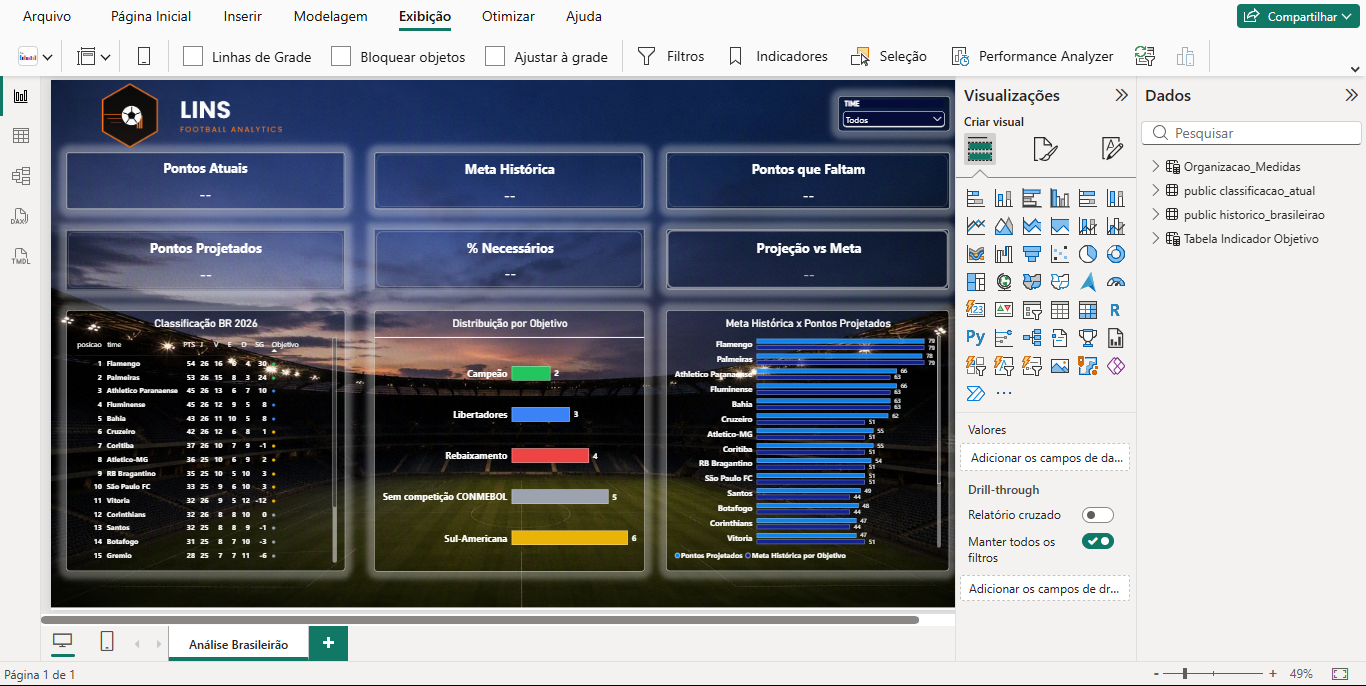

Layout of this report page (visuals, bound fields, positions):
{"tool":"powerbi","page":{"name":"Análise Brasileirão","canvas":[1920,1080],"ordinal":0},"visuals":[{"type":"image","box":[1883.2,1058.2,36.8,22.1],"z":0},{"type":"slicer","fields":{"Values":["public classificacao_atual.time"]},"box":[1606.5,32.6,229,72.5],"z":1000},{"type":"cardVisual","fields":{"Data":["Organizacao_Medidas.Pontos Atuais"]},"box":[30.4,147.8,569.6,117.4],"z":2000},{"type":"cardVisual","fields":{"Data":["Organizacao_Medidas.Meta Histórica por Objetivo"]},"box":[658.7,147.8,552.2,117.4],"z":3000},{"type":"cardVisual","fields":{"Data":["Organizacao_Medidas.Pontos para Meta Histórica"]},"box":[1254.3,147.8,580.4,117.4],"z":4000},{"type":"cardVisual","fields":{"Data":["Organizacao_Medidas.Pontos Projetados"]},"box":[30.4,306.5,569.6,123.9],"z":5000},{"type":"cardVisual","fields":{"Data":["Organizacao_Medidas.% Pontos Restantes para Meta"]},"box":[658.7,304.3,552.2,123.9],"z":6000},{"type":"cardVisual","fields":{"Data":["Organizacao_Medidas.Diferença Projeção vs Meta"]},"box":[1254.3,304.3,578.3,123.9],"z":7000},{"type":"clusteredBarChart","title":"Meta Histórica x Pontos Projetados","fields":{"Category":["public classificacao_atual.time"],"Y":["Organizacao_Medidas.Pontos Projetados","Organizacao_Medidas.Meta Histórica por Objetivo"]},"box":[1254.3,469.6,578.3,532.6],"z":8000},{"type":"tableEx","title":"Classificação BR 2026","fields":{"Values":["public classificacao_atual.posicao","public classificacao_atual.time","public classificacao_atual.pontos","public classificacao_atual.jogos","public classificacao_atual.vitorias","public classificacao_atual.empates","public classificacao_atual.derrotas","Organizacao_Medidas.Saldo de Gols","Organizacao_Medidas.Indicador Objetivo"]},"box":[30.4,469.6,569.6,532.6],"z":9000},{"type":"clusteredBarChart","title":"Distribuição por Objetivo","fields":{"Category":["Tabela Indicador Objetivo.Objetivo"],"Y":["Tabela Indicador Objetivo.Qtd Times Indicador"]},"box":[658.8,468.7,553,533.5],"z":10000},{"type":"image","box":[77.8,0,503.3,144.7],"z":11000}]}

Visuals, with their boxes on the page's 1920x1080 design canvas (x1, y1, x2, y2). These are canvas units, not pixel positions in the 1366x686 screenshot, which may show the page scaled, cropped or inside an application window:
image: bbox(1883, 1058, 1920, 1080)
slicer - public classificacao_atual.time: bbox(1606, 33, 1836, 105)
cardVisual - Organizacao_Medidas.Pontos Atuais: bbox(30, 148, 600, 265)
cardVisual - Organizacao_Medidas.Meta Histórica por Objetivo: bbox(659, 148, 1211, 265)
cardVisual - Organizacao_Medidas.Pontos para Meta Histórica: bbox(1254, 148, 1835, 265)
cardVisual - Organizacao_Medidas.Pontos Projetados: bbox(30, 306, 600, 430)
cardVisual - Organizacao_Medidas.% Pontos Restantes para Meta: bbox(659, 304, 1211, 428)
cardVisual - Organizacao_Medidas.Diferença Projeção vs Meta: bbox(1254, 304, 1833, 428)
"Meta Histórica x Pontos Projetados" clusteredBarChart: bbox(1254, 470, 1833, 1002)
"Classificação BR 2026" tableEx: bbox(30, 470, 600, 1002)
"Distribuição por Objetivo" clusteredBarChart: bbox(659, 469, 1212, 1002)
image: bbox(78, 0, 581, 145)
